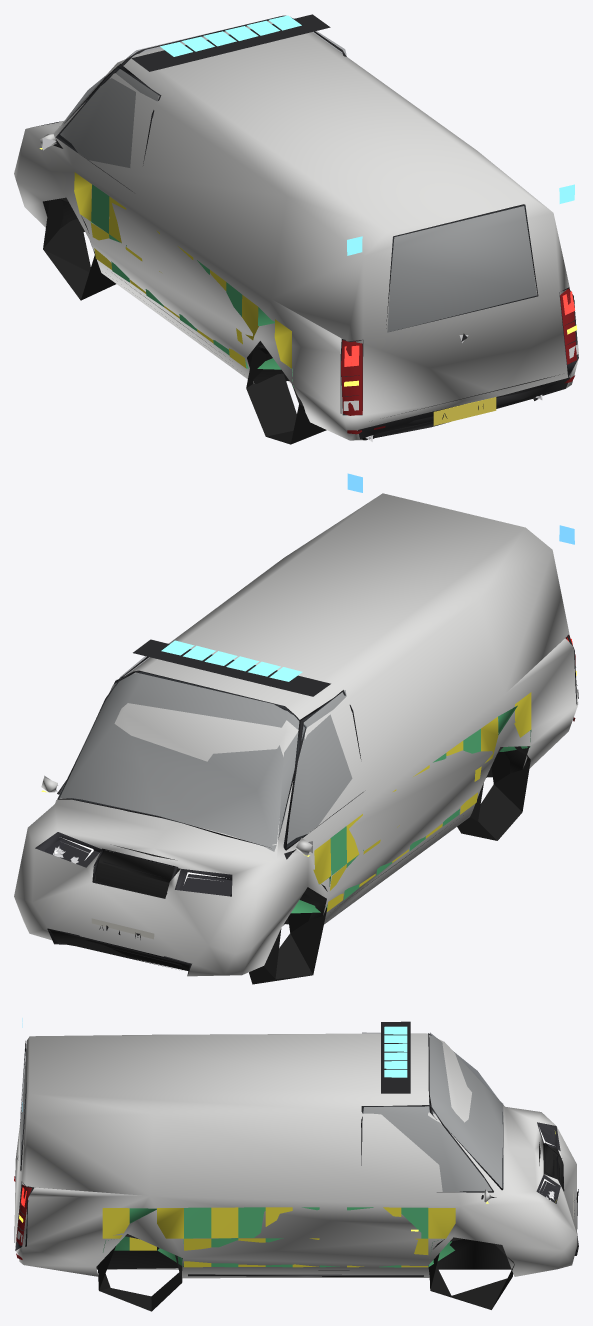
The model's file is civ_ambulance_lod1.glb.
3 renders of one model, top to bottom at view 1: azimuth 30°, elevation 25°; view 2: azimuth 150°, elevation 25°; view 3: azimuth 270°, elevation 25°, orthographic. The views are drawn at different scales.
Parts seen in each view (by area): view 1: civ_ambulance.001; view 2: civ_ambulance.001; view 3: civ_ambulance.001.
Part boxes in pixels (<box>): civ_ambulance.001: <box>14,14,578,444</box>; civ_ambulance.001: <box>14,473,578,984</box>; civ_ambulance.001: <box>14,1018,578,1311</box>.
Bounding box in the file's own units: 2.25 × 2.09 × 5.
